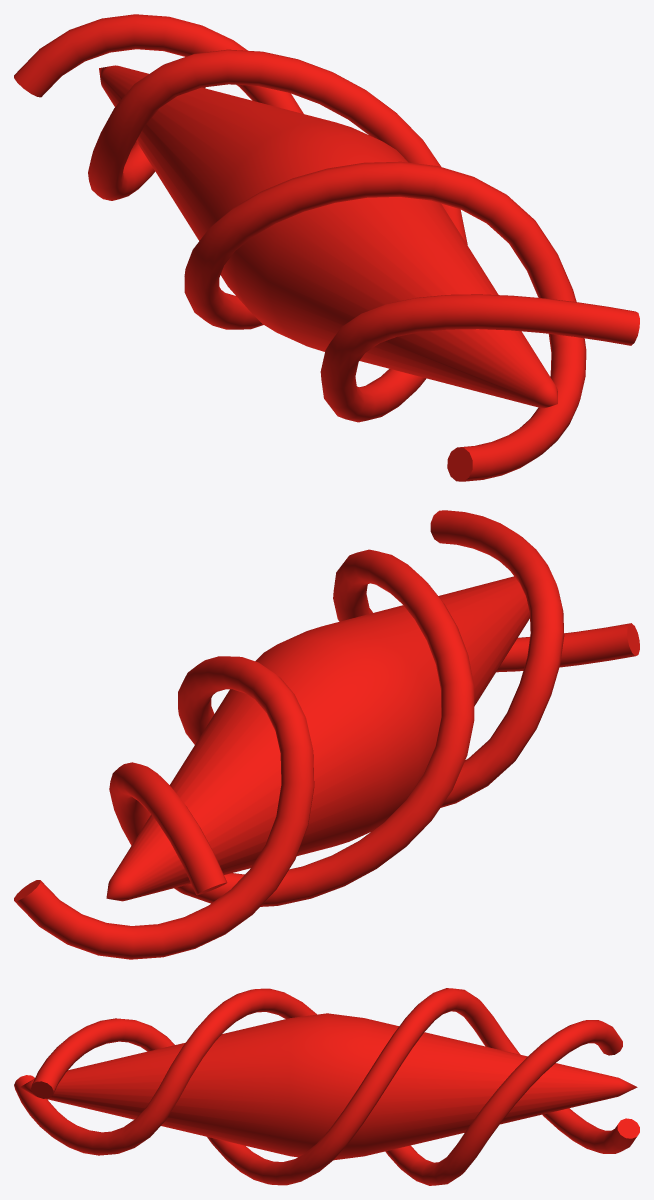
The model's file is bullet.obj.
The picture shows the model from 3 angles, top to bottom: view 1: azimuth 30°, elevation 25°; view 2: azimuth 150°, elevation 25°; view 3: azimuth 270°, elevation 25°; orthographic projection. The views are drawn at different scales.
Parts seen in each view (by area): view 1: BezierCurve.002; view 2: BezierCurve.002; view 3: BezierCurve.002.
Part boxes in pixels (left/top/right/bottom): BezierCurve.002: left=14, top=14, right=639, bottom=481; BezierCurve.002: left=14, top=510, right=639, bottom=959; BezierCurve.002: left=14, top=988, right=639, bottom=1185.
Size of the model in its own units: 0.0175 by 0.0157 by 0.0508.
Materials: 1 (1 with a texture image).
